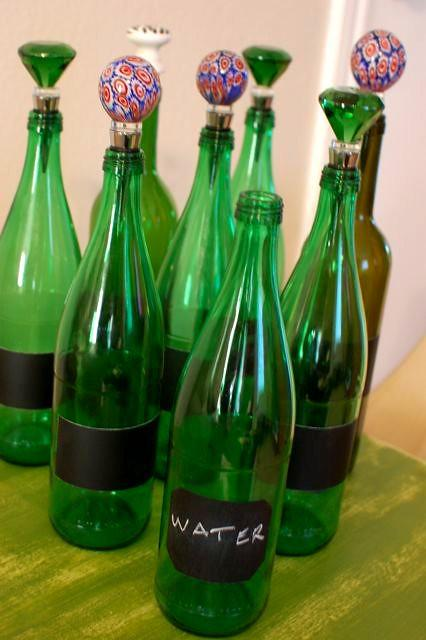bottle: (153, 190, 297, 638), (48, 55, 167, 551), (153, 49, 249, 482), (275, 138, 370, 557), (1, 41, 84, 466), (347, 111, 393, 475), (230, 46, 293, 294), (125, 25, 179, 280)
